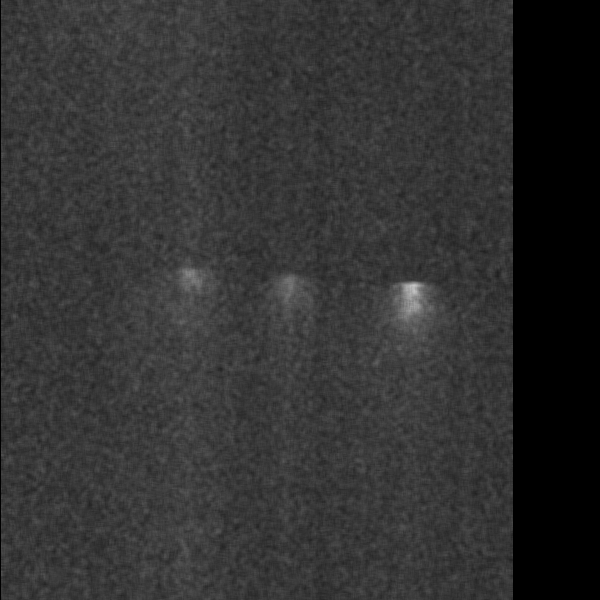spark: (134, 35, 163, 96)
